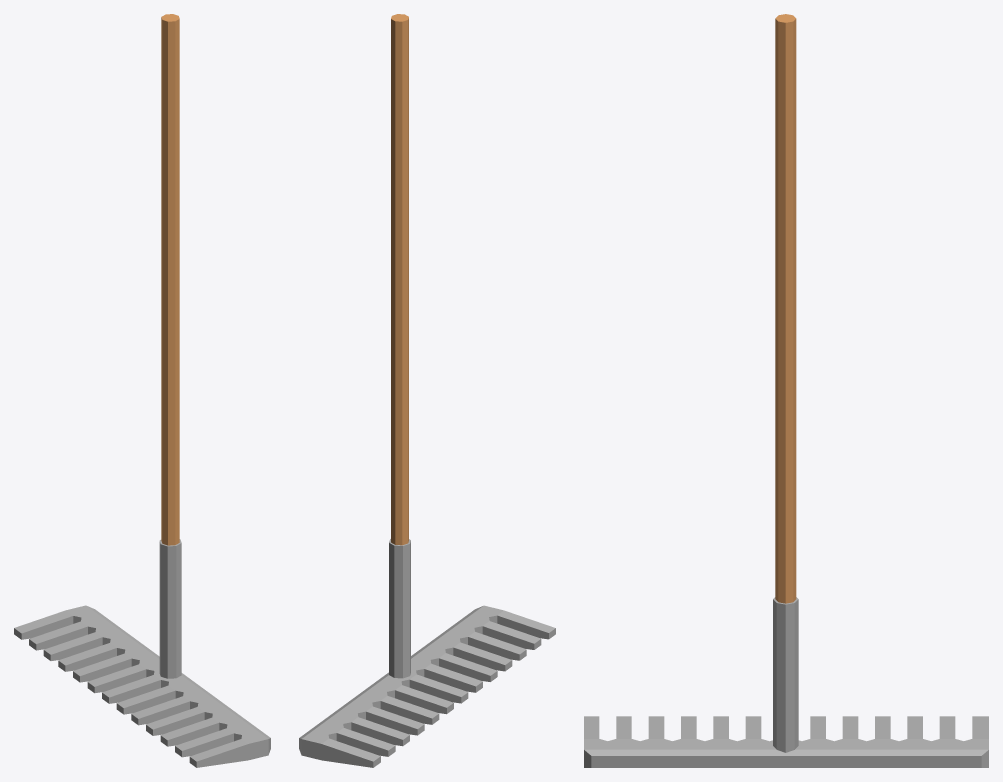
Rendered from Rake.glb.
3 renders of one model, left to right at view 1: azimuth 30°, elevation 25°; view 2: azimuth 150°, elevation 25°; view 3: azimuth 270°, elevation 25°, orthographic. The views are drawn at different scales.
Parts seen in each view (by area): view 1: Rake; view 2: Rake; view 3: Rake.
Part boxes in pixels (x1,y1,x2,y2): Rake: (14, 14, 270, 767); Rake: (299, 14, 555, 767); Rake: (584, 14, 988, 767).
Bounding box in the file's own units: 20.59 × 170 × 83.85.
